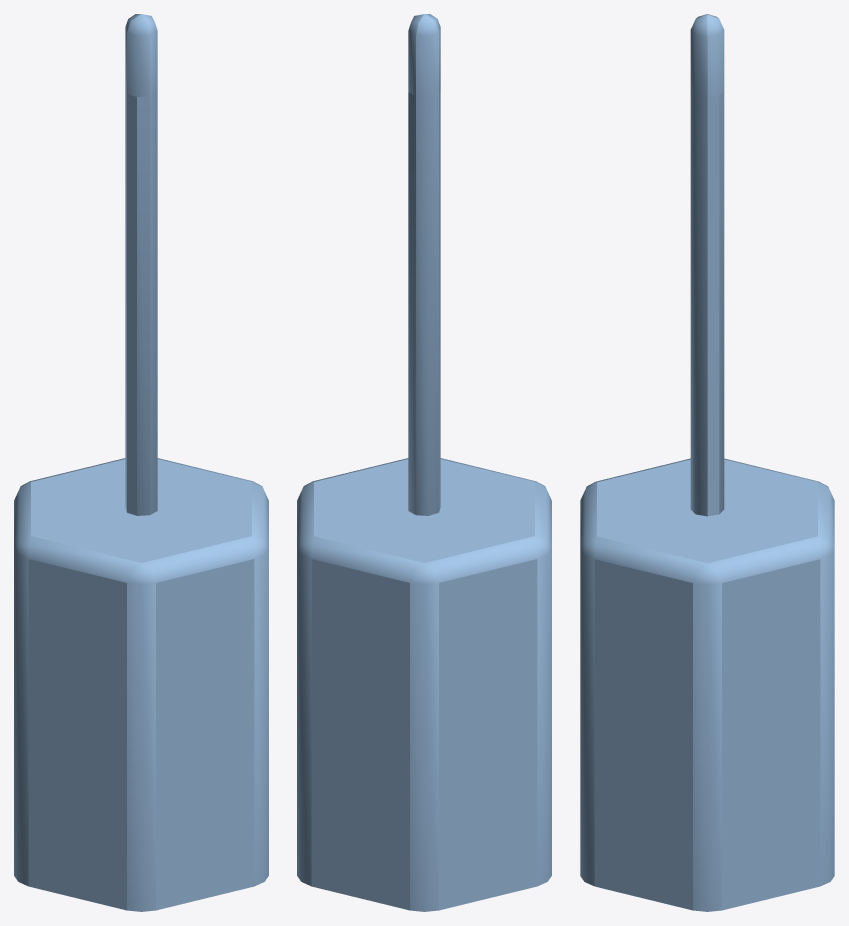
The model's file is CocBanChai_TreEm.glb.
The picture shows the model from 3 angles, left to right: view 1: azimuth 30°, elevation 25°; view 2: azimuth 150°, elevation 25°; view 3: azimuth 270°, elevation 25°; orthographic projection.
Visible parts, largest first — view 1: geometry_0; view 2: geometry_0; view 3: geometry_0.
Part boxes in pixels (x1,y1,x2,y2): geometry_0: [14, 14, 268, 911]; geometry_0: [297, 14, 551, 911]; geometry_0: [580, 14, 834, 911].
Bounding box in the file's own units: 0.0679 × 0.22 × 0.0606.
